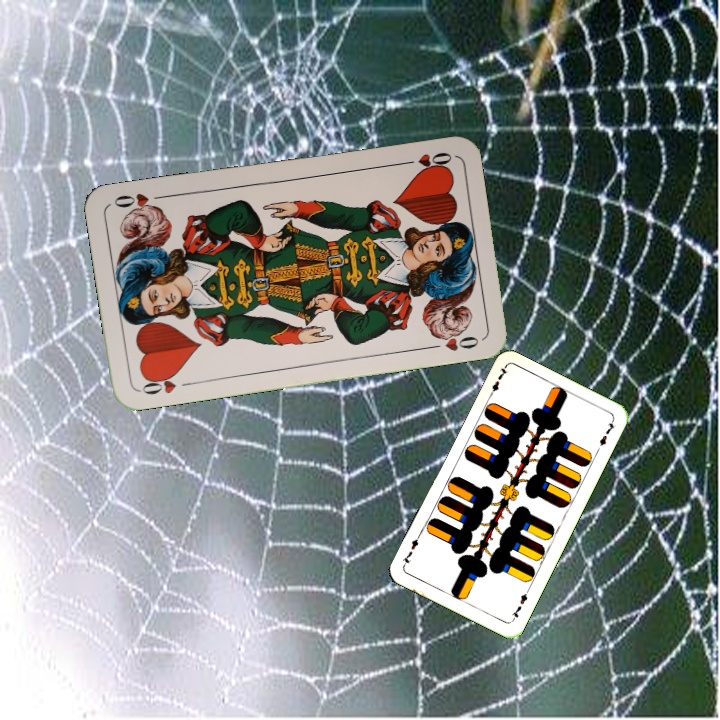E7: (484, 363, 510, 401), (508, 585, 532, 623)
HO: (136, 369, 195, 397), (396, 148, 455, 172)
